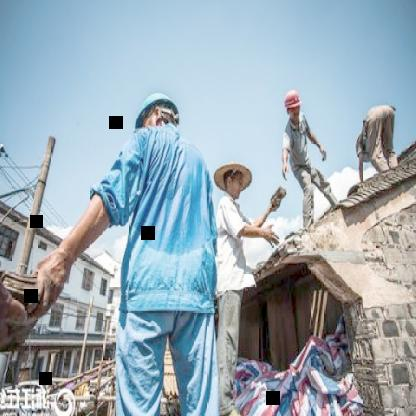helmet: (132, 90, 180, 136), (285, 87, 303, 117)
